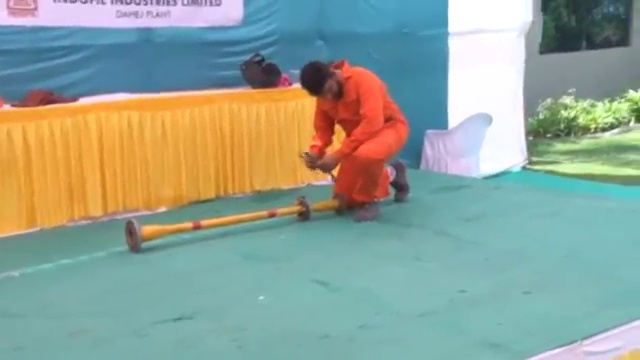helmet_off: (299, 60, 343, 103)
person: (298, 58, 410, 226)
